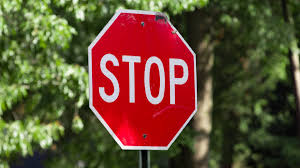stop: (88, 9, 197, 150)
